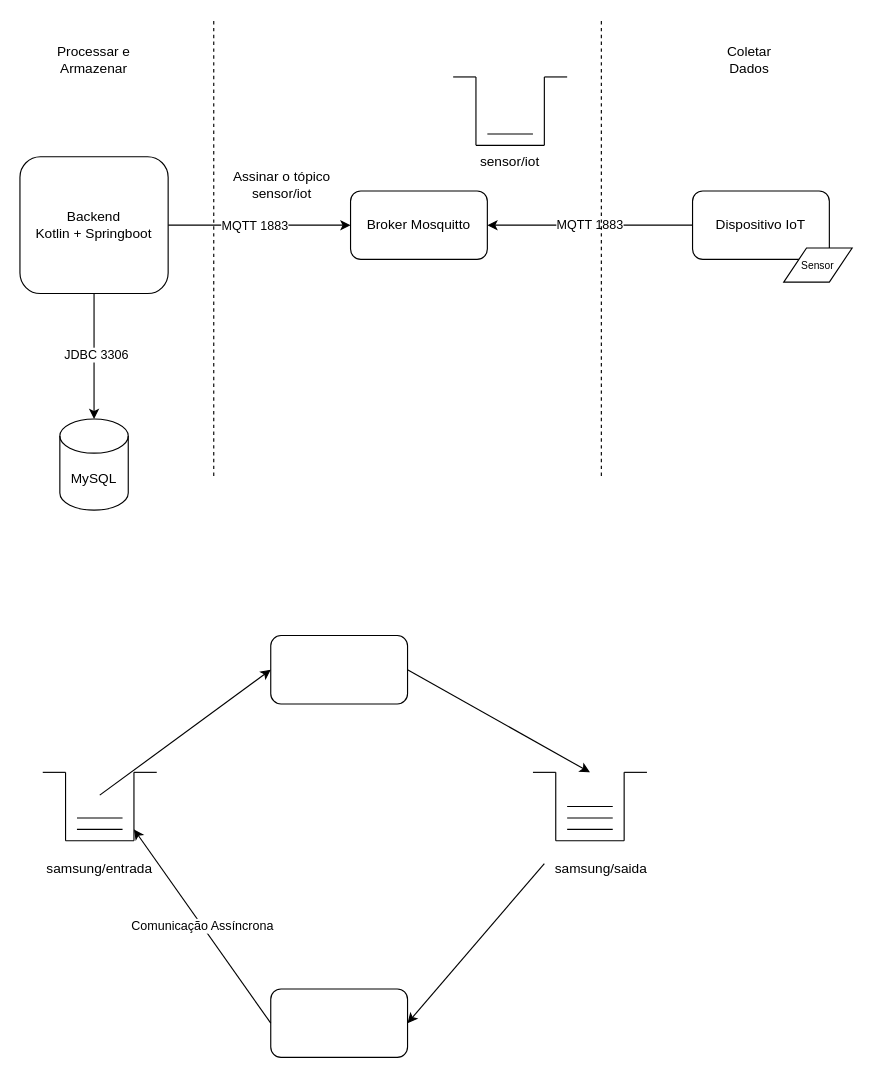
Some shapes in this 872 by 1077 pixel diagram are drawn without their labels. The centre of each missing label's shape, as x and y in pixels:
"SAP da Samsumg" goes at pixel 339 669.
"SAP das Casas Bahia" goes at pixel 339 1022.
